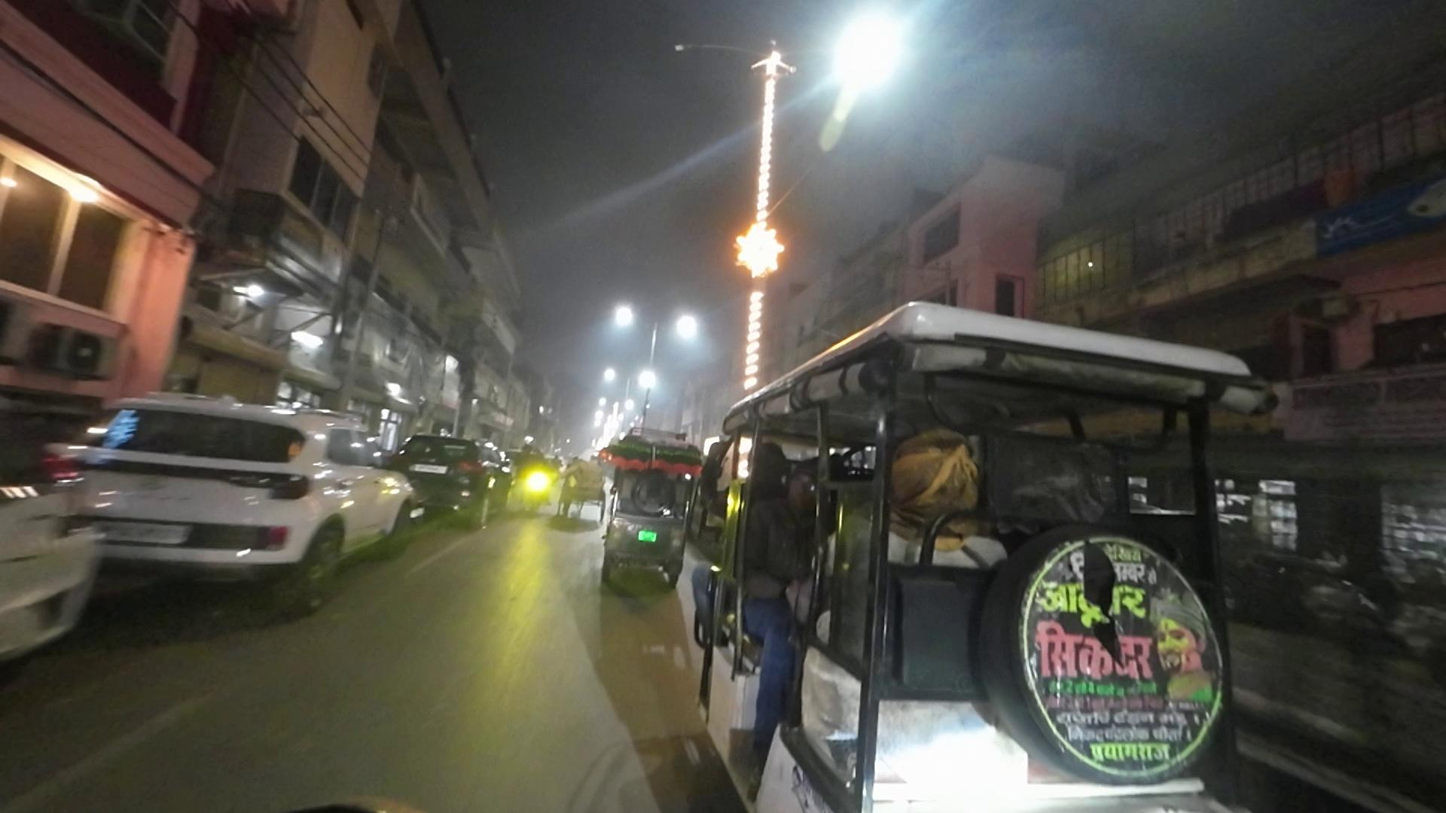streetlight: (664, 38, 760, 63)
